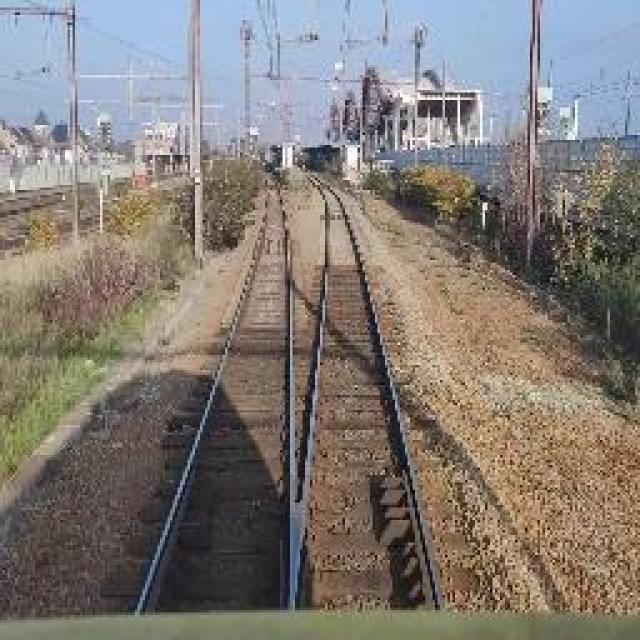rail: (110, 171, 463, 618)
